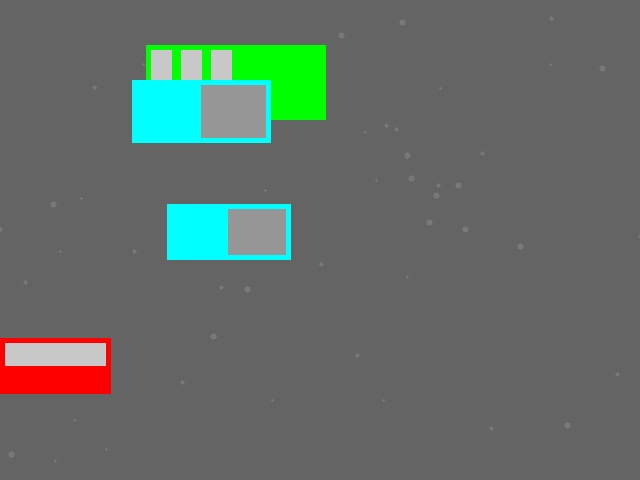bus: (146, 45, 325, 119)
car: (0, 338, 110, 393)
truck: (132, 80, 270, 142), (167, 204, 290, 259)
